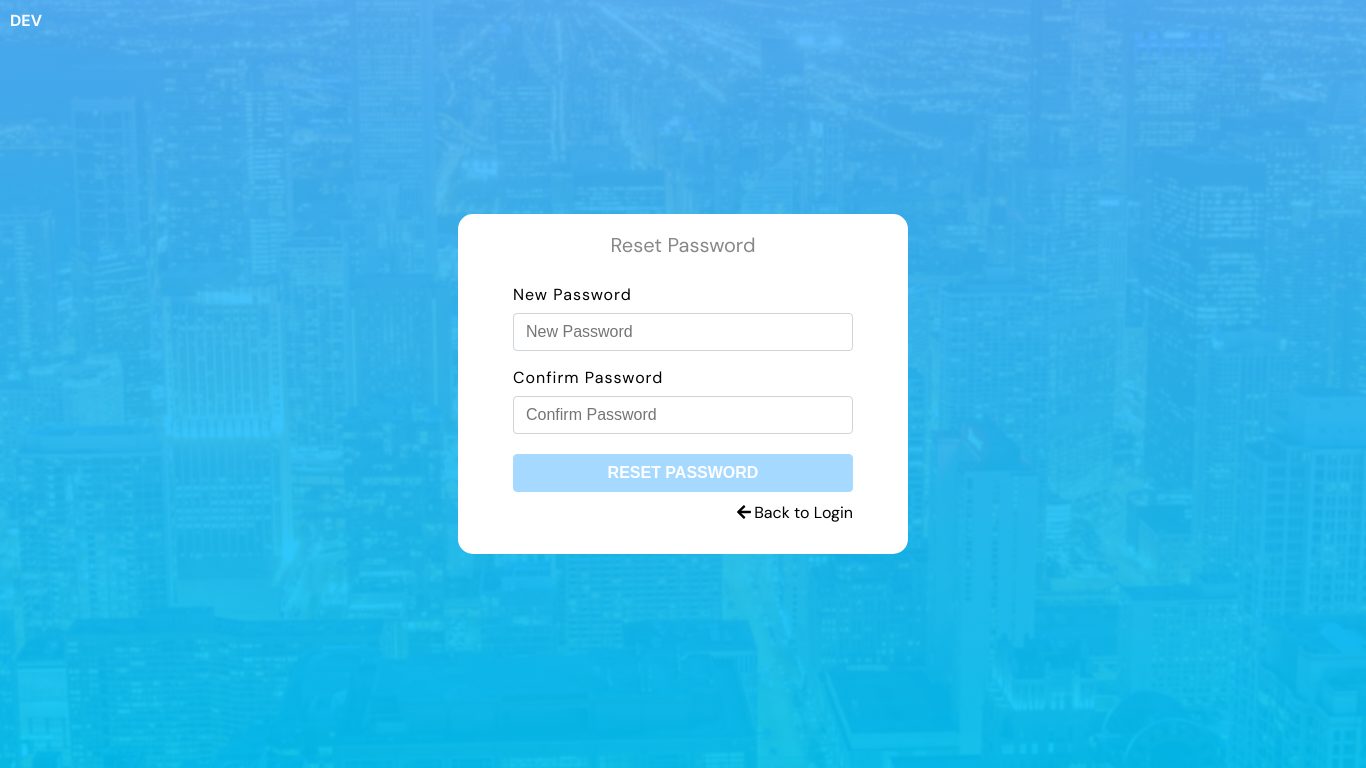
Test: ResetPassword › Error › should display error alert and border
The width and height of the screenshot is (1366, 768).
Type "qwerty1" into the password field labelled "New Password" at [683, 332], box [513,313,853,351]
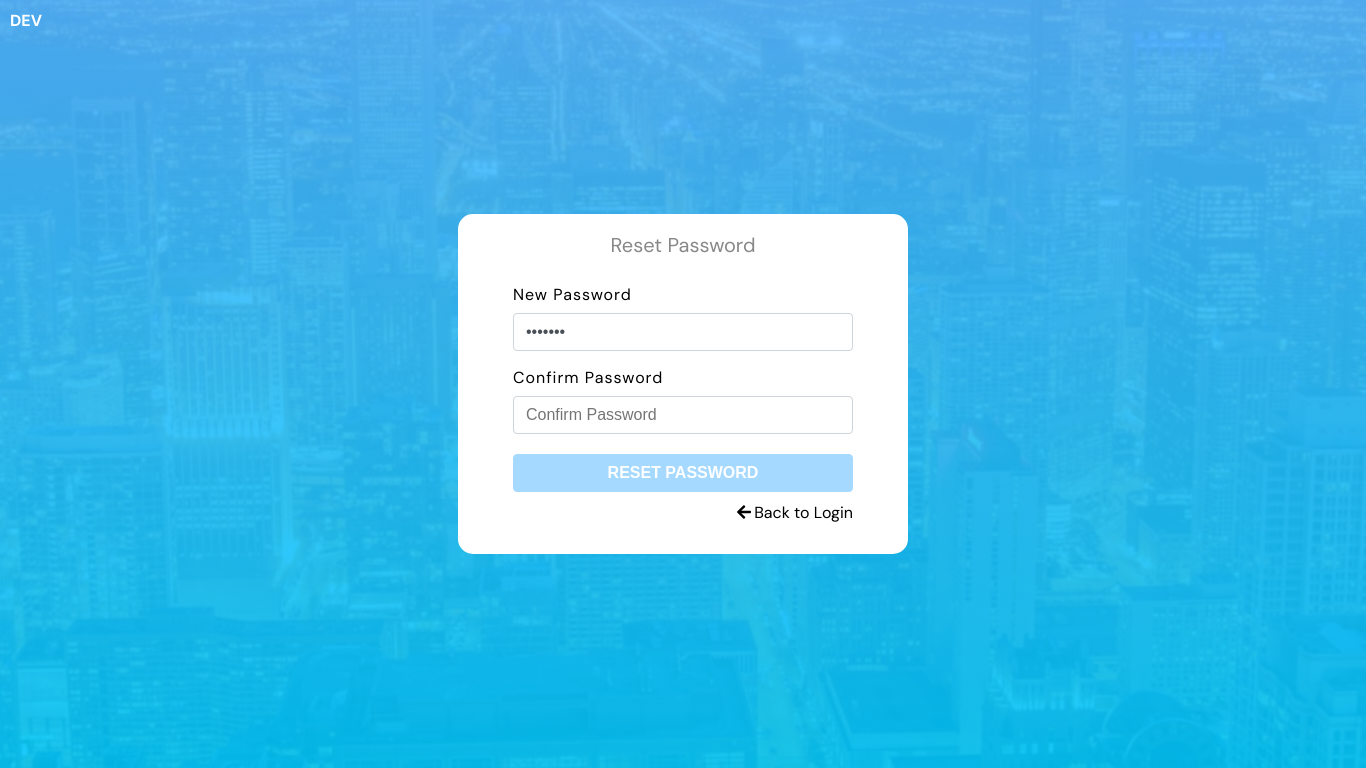
Type "qwerty" into the password field labelled "Confirm Password" at [683, 415], box [513,396,853,434]
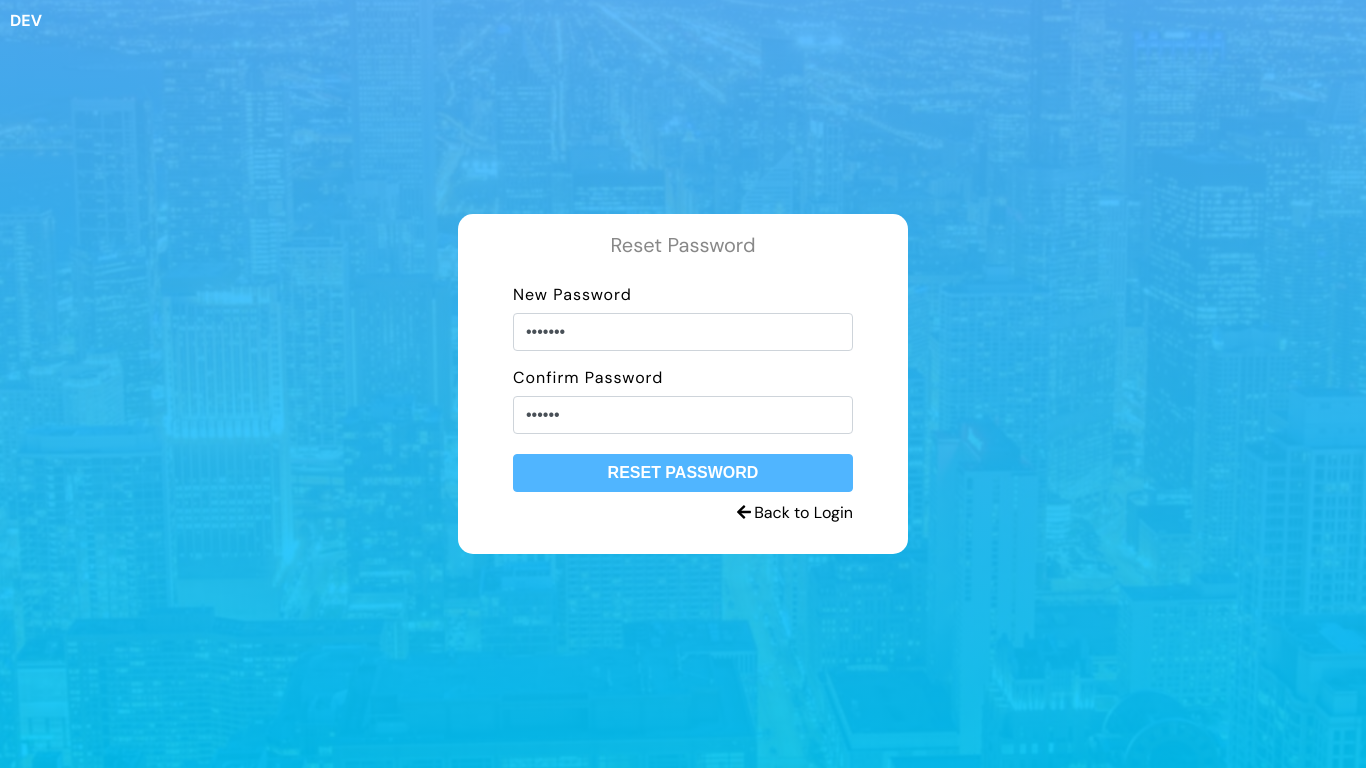
Click the button at [683, 473], box [513,454,853,492]
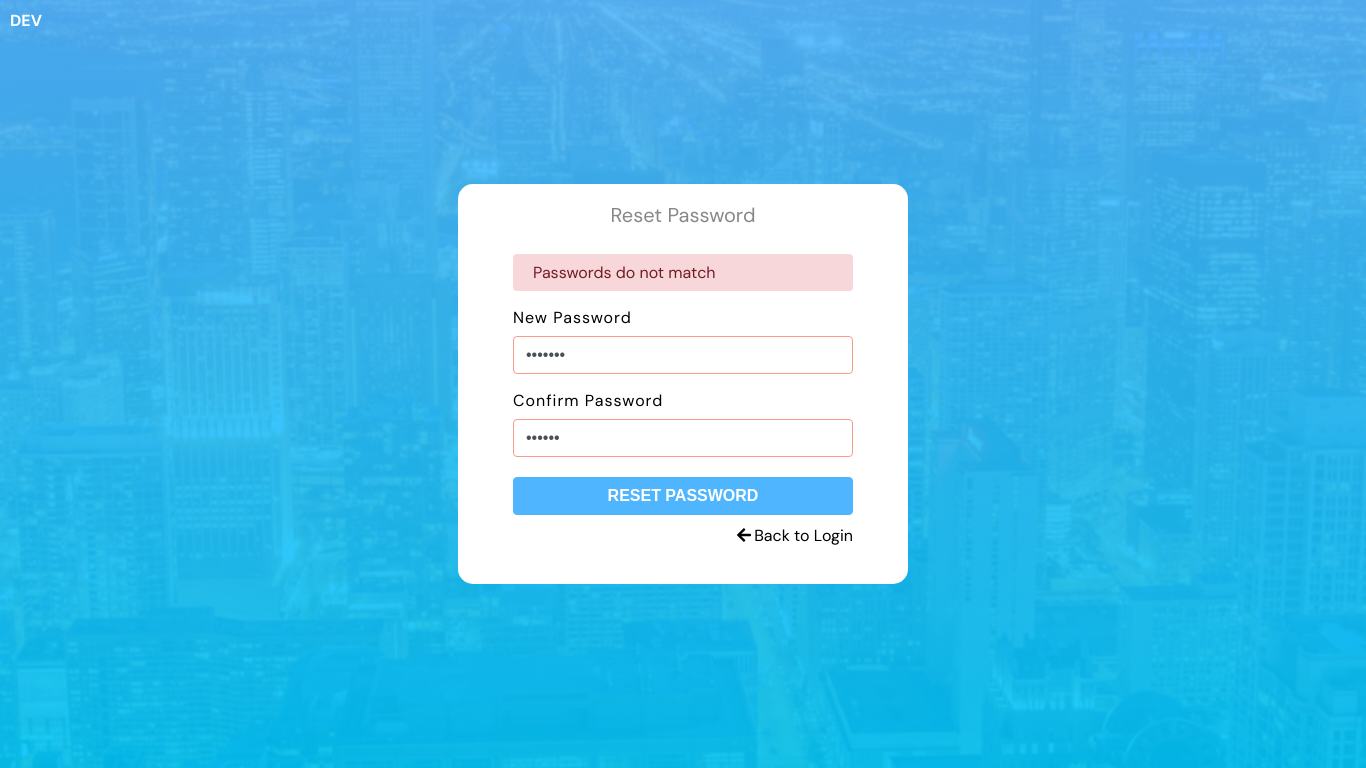
Result: the message "Passwords do not match" is shown at [513,254,853,291]
Result: the message reads "Passwords do not match" at [533,262,716,283]
